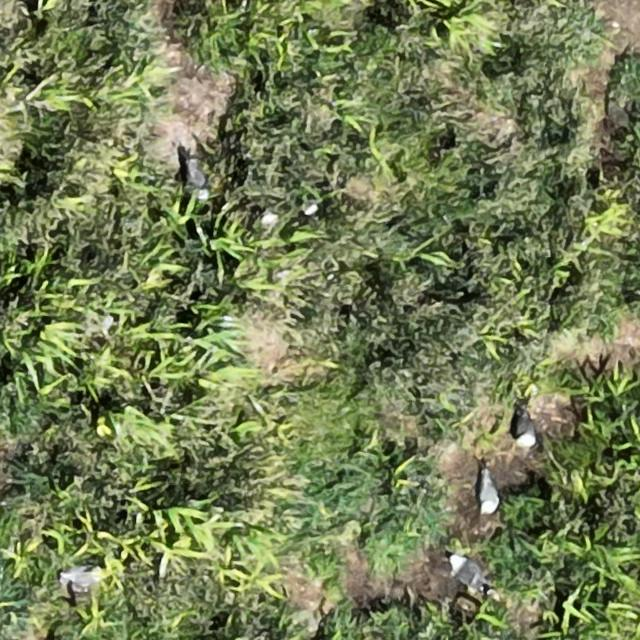umineko: (187, 149, 208, 201), (452, 558, 486, 588), (479, 475, 498, 512), (516, 412, 536, 446)
